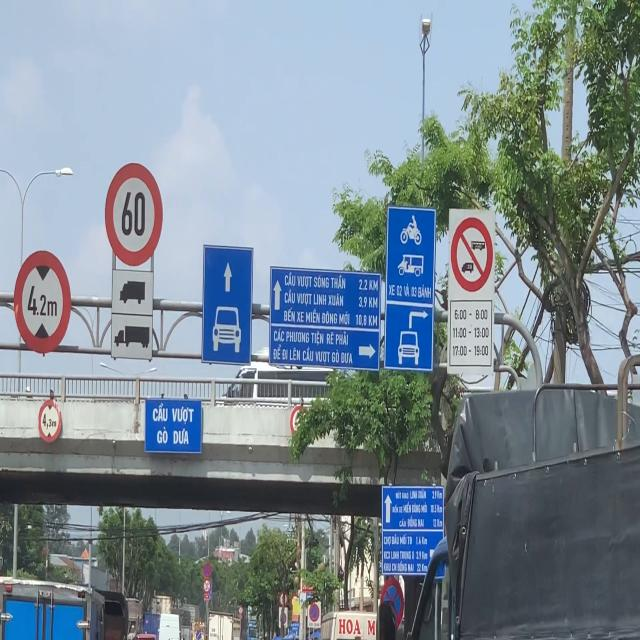Cam con lai: (451, 216, 494, 293)
Cam dung va do: (381, 578, 404, 632), (309, 603, 320, 622), (204, 562, 212, 578)
Chieu cao toi da: (14, 250, 72, 354), (38, 399, 62, 443)
Toc do toi da: (104, 162, 164, 267)
